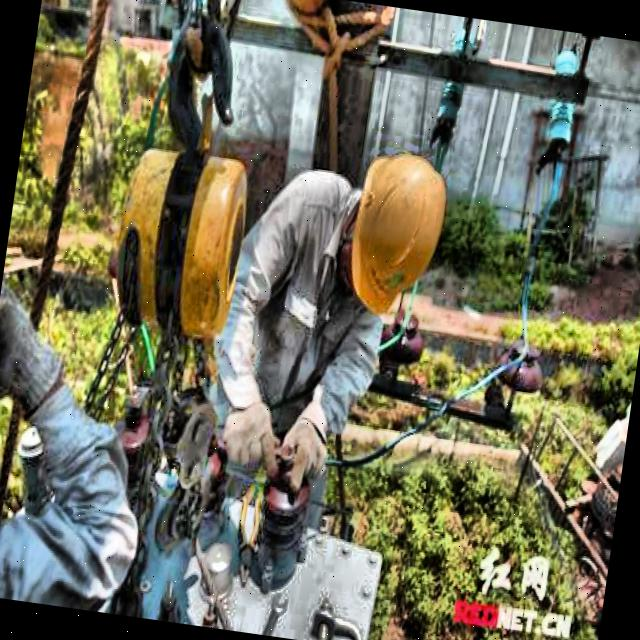helmet: (332, 140, 458, 326)
